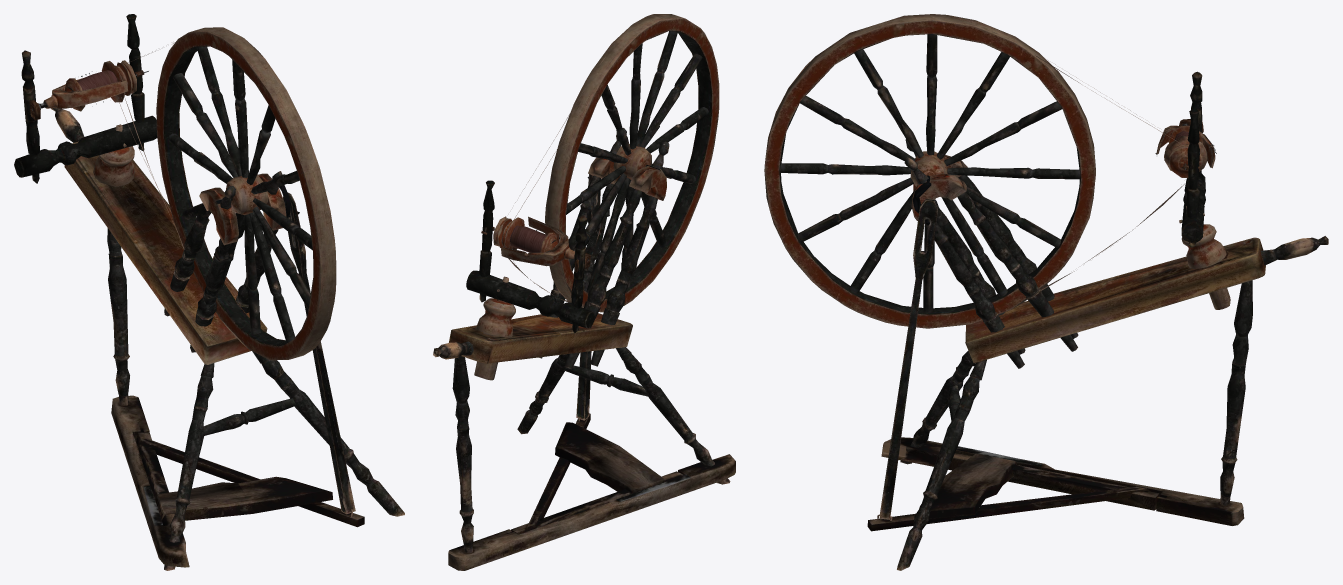
File: spinning_wheel_01.glb
3 views of the same model, side by side, from view 1: azimuth 30°, elevation 25°; view 2: azimuth 150°, elevation 25°; view 3: azimuth 270°, elevation 25° (orthographic). The views are drawn at different scales.
Parts seen in each view (by area): view 1: spinning_wheel_01; view 2: spinning_wheel_01; view 3: spinning_wheel_01.
Boxes of the visible parts, left/top/right/bottom form: spinning_wheel_01: left=14, top=14, right=404, bottom=570; spinning_wheel_01: left=433, top=14, right=735, bottom=570; spinning_wheel_01: left=764, top=14, right=1328, bottom=570.
Bounding box in the file's own units: 0.4894 × 0.9657 × 1.02.
1 material, 1 textured.
